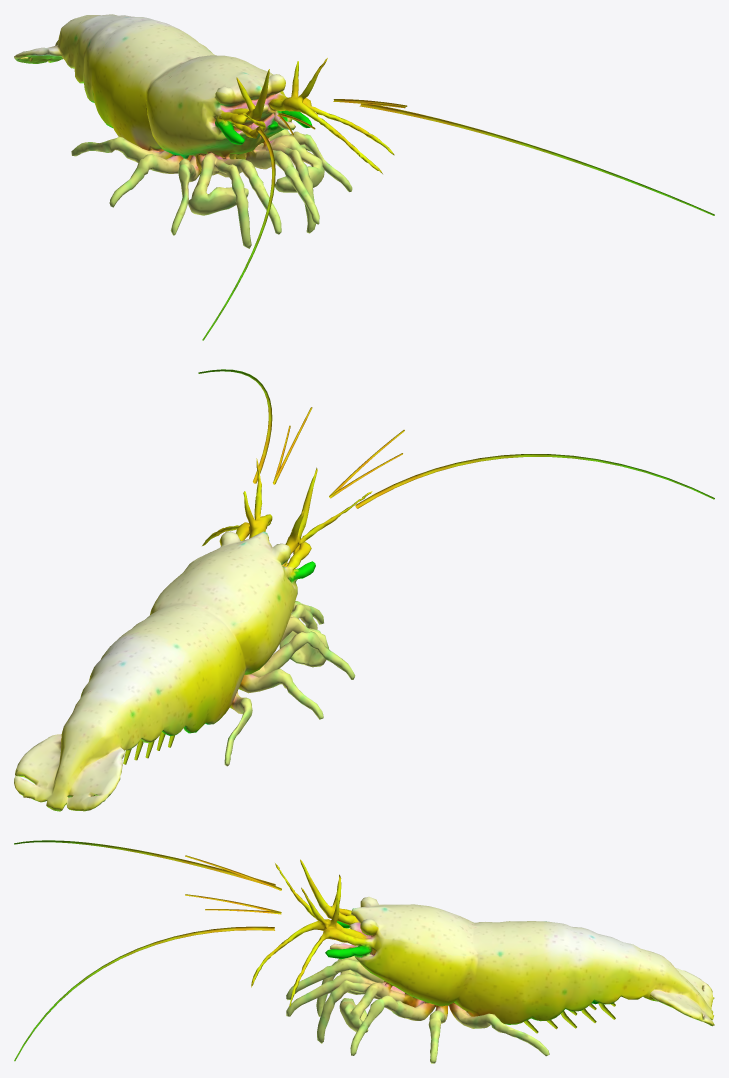
File: shrimp.glb
3 renders of one model, top to bottom at view 1: azimuth 30°, elevation 25°; view 2: azimuth 150°, elevation 25°; view 3: azimuth 270°, elevation 25°, orthographic. The views are drawn at different scales.
Visible parts, largest first — view 1: shrimp; view 2: shrimp; view 3: shrimp.
Part boxes in pixels (<box>): shrimp: <box>14,14,714,340</box>; shrimp: <box>14,369,714,811</box>; shrimp: <box>14,840,714,1063</box>.
Size of the model in its own units: 0.0257 by 0.00897 by 0.0351.
1 material, 1 textured.
